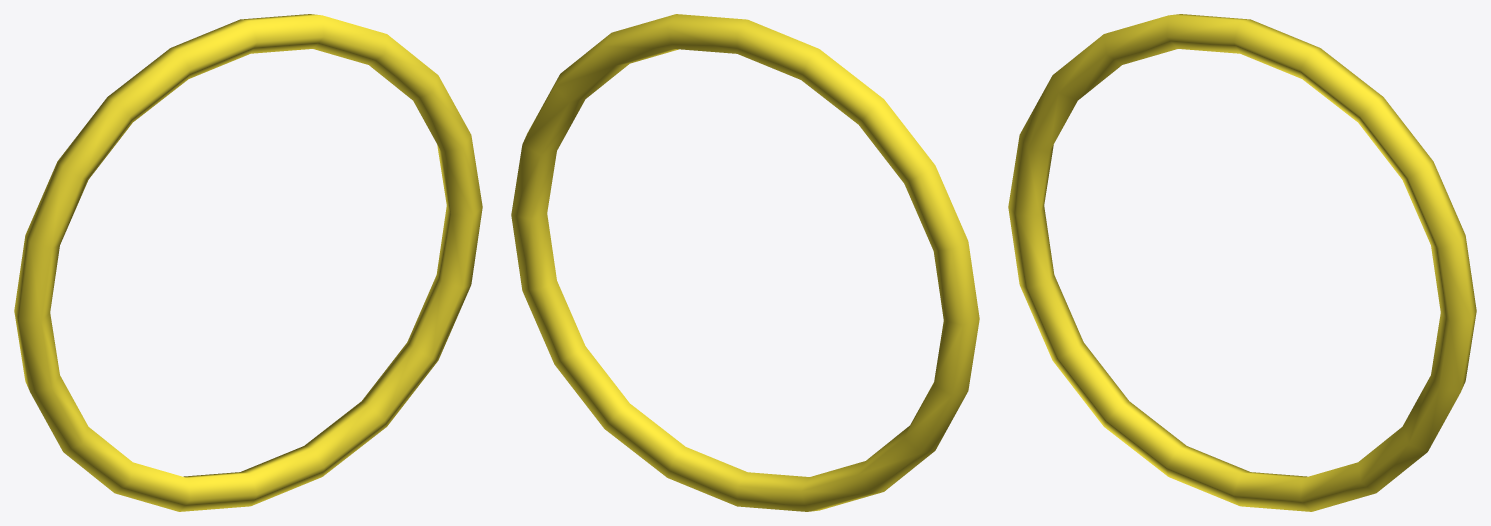
The model's file is Halo.gltf.
The picture shows the model from 3 angles, left to right: view 1: azimuth 30°, elevation 25°; view 2: azimuth 150°, elevation 25°; view 3: azimuth 330°, elevation 25°; orthographic projection.
Visible parts, largest first — view 1: pTorus1; view 2: pTorus1; view 3: pTorus1.
Part boxes in pixels (bbox=[...]): pTorus1: bbox=[14, 14, 482, 511]; pTorus1: bbox=[511, 14, 979, 511]; pTorus1: bbox=[1008, 14, 1476, 511].
Bounding box in the file's own units: 197 × 197 × 12.68.
